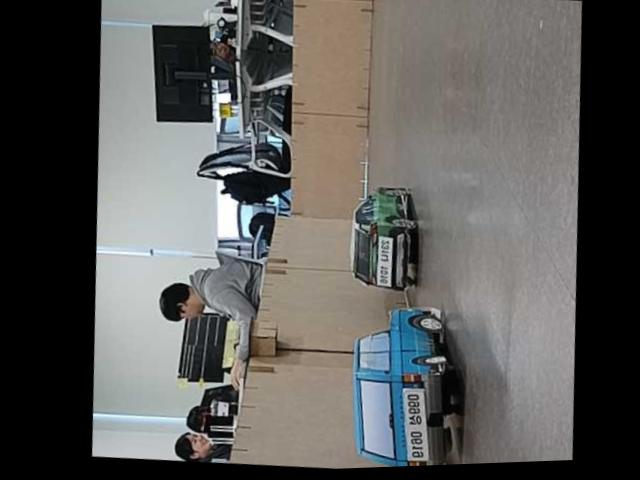car: (336, 302, 467, 468), (341, 185, 422, 294)
id: (394, 386, 434, 463), (371, 235, 396, 288)
